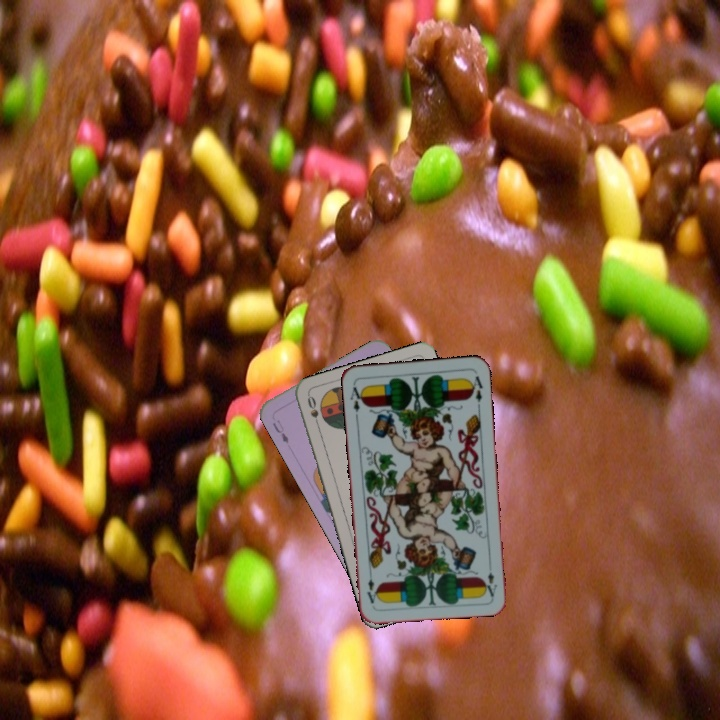EA: (346, 380, 366, 414), (481, 568, 499, 599)
EU: (268, 416, 291, 446)
SO: (303, 392, 323, 432)
